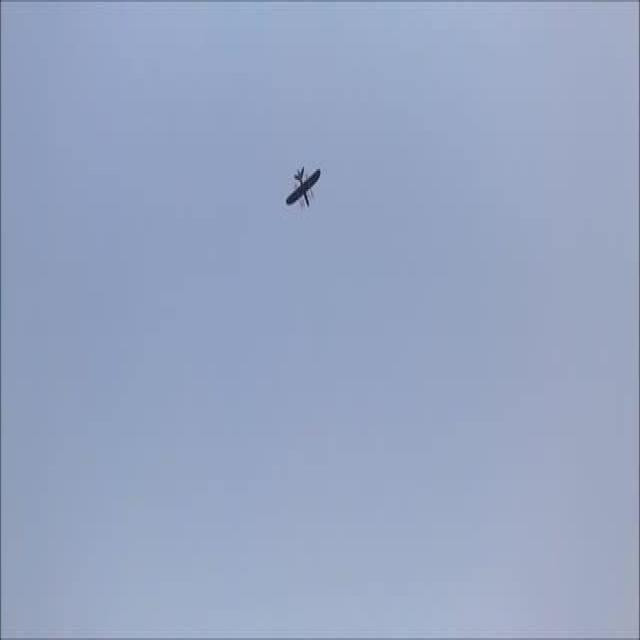UAV: (276, 144, 340, 223)
